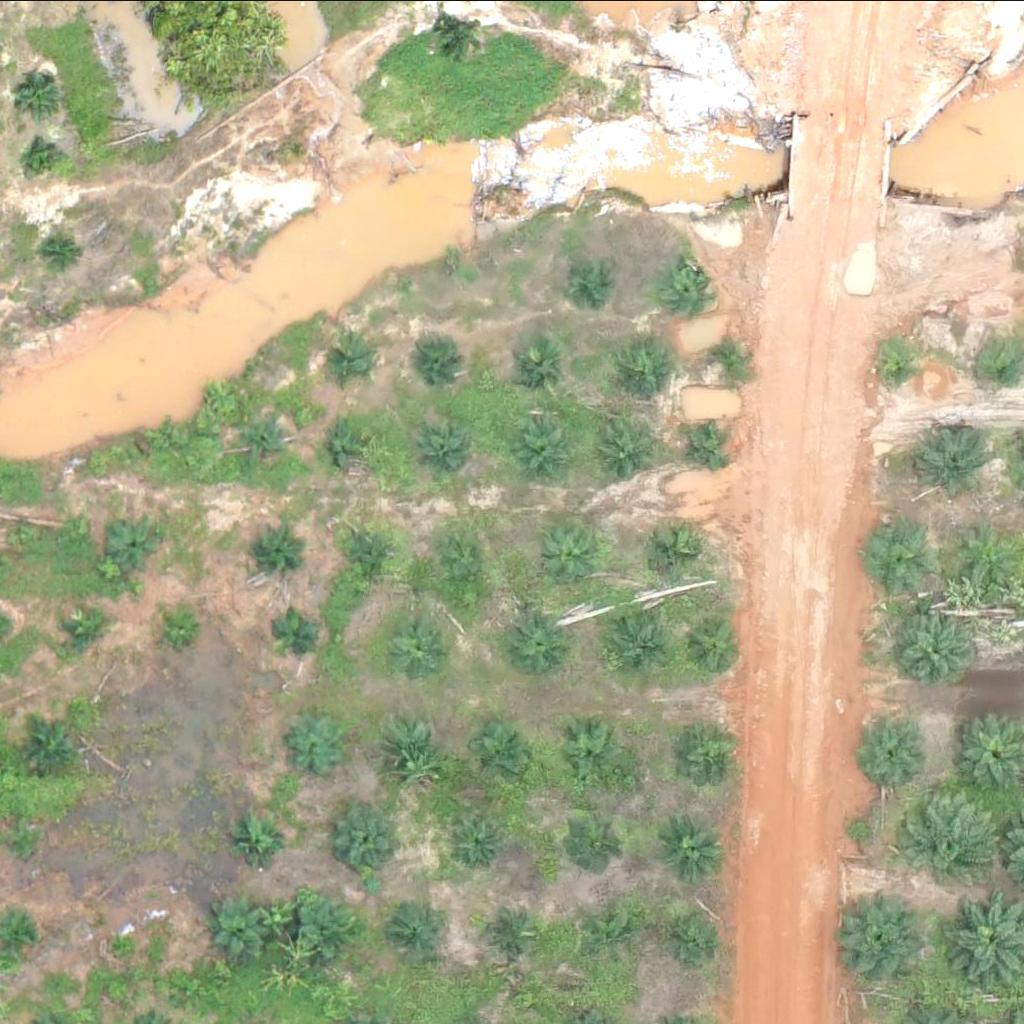Kelapa_Sawit: (903, 787, 1003, 887), (837, 890, 925, 978), (892, 603, 980, 690), (914, 425, 990, 500), (859, 715, 935, 790), (441, 533, 504, 596), (417, 418, 480, 481), (234, 810, 297, 873), (334, 806, 397, 869), (661, 819, 724, 882), (514, 420, 577, 483), (559, 723, 622, 786), (666, 725, 729, 788), (566, 809, 629, 872), (683, 613, 746, 676), (864, 524, 927, 587), (610, 333, 673, 396), (595, 419, 658, 482), (210, 896, 273, 959), (473, 723, 536, 785), (388, 612, 451, 674), (286, 713, 349, 775), (605, 610, 668, 672), (579, 898, 642, 960), (509, 613, 572, 675), (960, 519, 1023, 581), (547, 524, 610, 586), (645, 519, 708, 581), (505, 334, 568, 396), (299, 895, 362, 957), (386, 717, 449, 779), (661, 903, 723, 965), (27, 718, 78, 768), (680, 419, 731, 469), (701, 333, 752, 383), (59, 607, 110, 657), (399, 910, 449, 960), (492, 902, 542, 952), (455, 819, 505, 869), (416, 330, 466, 380), (247, 523, 297, 573), (272, 605, 322, 655), (242, 416, 292, 466), (111, 517, 161, 567), (327, 420, 377, 470), (326, 334, 376, 384), (667, 262, 717, 312), (562, 252, 612, 302), (875, 340, 925, 390), (436, 9, 486, 59), (351, 526, 401, 576), (14, 68, 64, 118), (149, 420, 187, 458), (160, 608, 198, 646), (41, 229, 79, 267), (24, 142, 62, 180), (1, 516, 39, 554), (3, 819, 41, 856)
